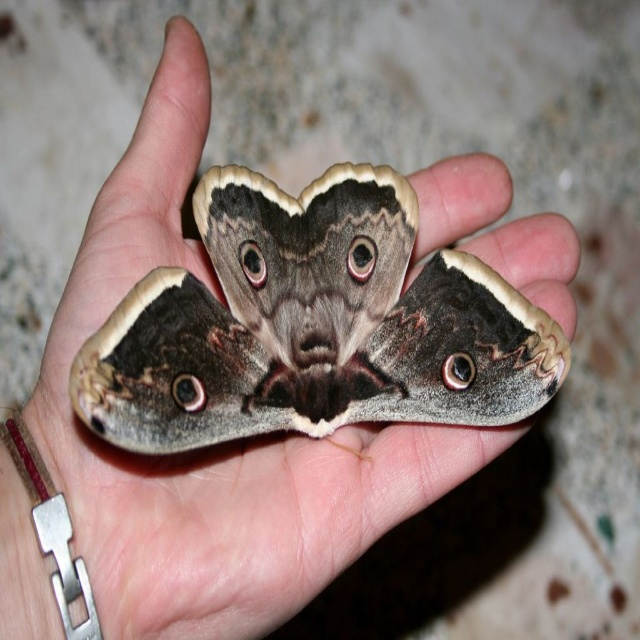Butterfly: (70, 164, 572, 454)
